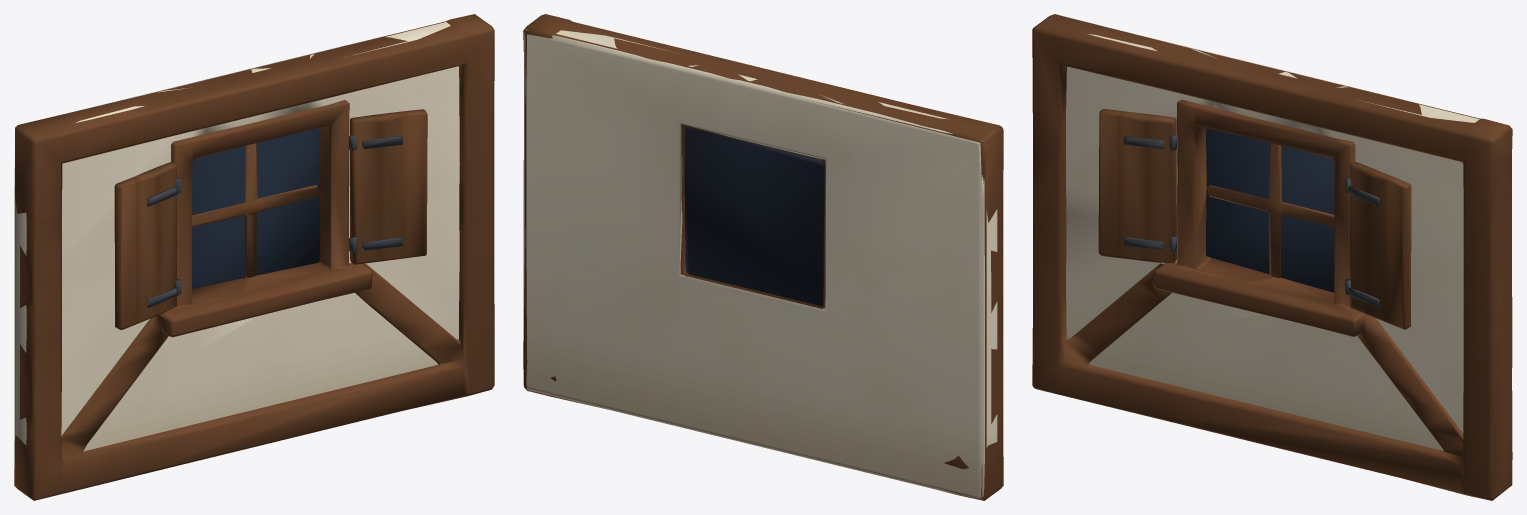
File: plaster-wall-window.glb
3 renders of one model, left to right at view 1: azimuth 30°, elevation 25°; view 2: azimuth 150°, elevation 25°; view 3: azimuth 330°, elevation 25°, orthographic.
Parts seen in each view (by area): view 1: plaster; view 2: plaster; view 3: plaster.
Part boxes in pixels (x1,y1,x2,y2): plaster: [14, 14, 494, 500]; plaster: [523, 14, 1003, 500]; plaster: [1032, 14, 1512, 500].
Size of the model in its own units: 2.01 by 1.51 by 0.2447.
Materials: 1 (1 with a texture image).
